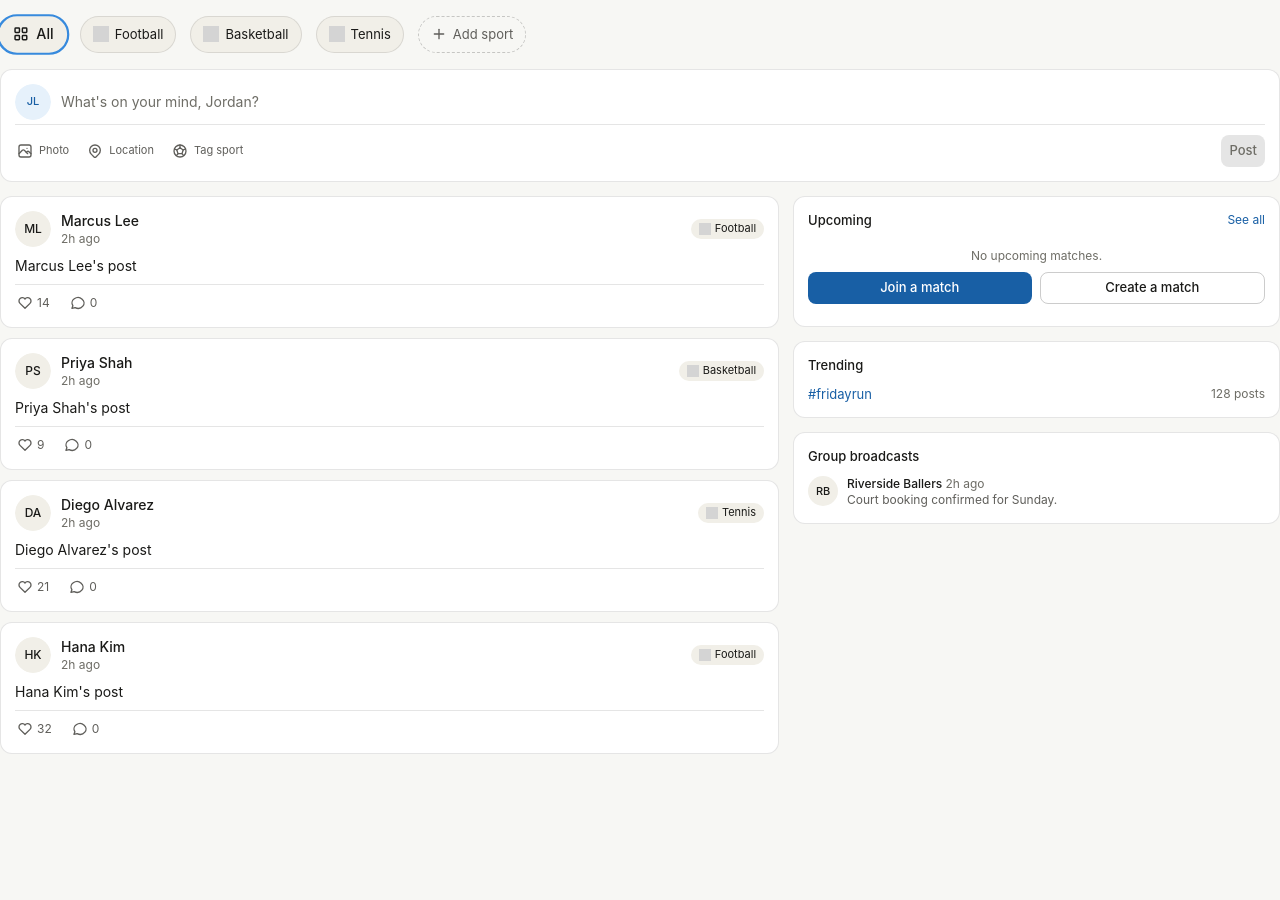
it: HomeFeedPage › empty upcoming matches: "Create a match"/"Join a match" open their own modals
The width and height of the screenshot is (1280, 900).
Check: the text "No upcoming matches." is shown, box [971, 248, 1102, 264]
Click the button "Create a match" at point(1152, 288), box [1040, 272, 1265, 304]
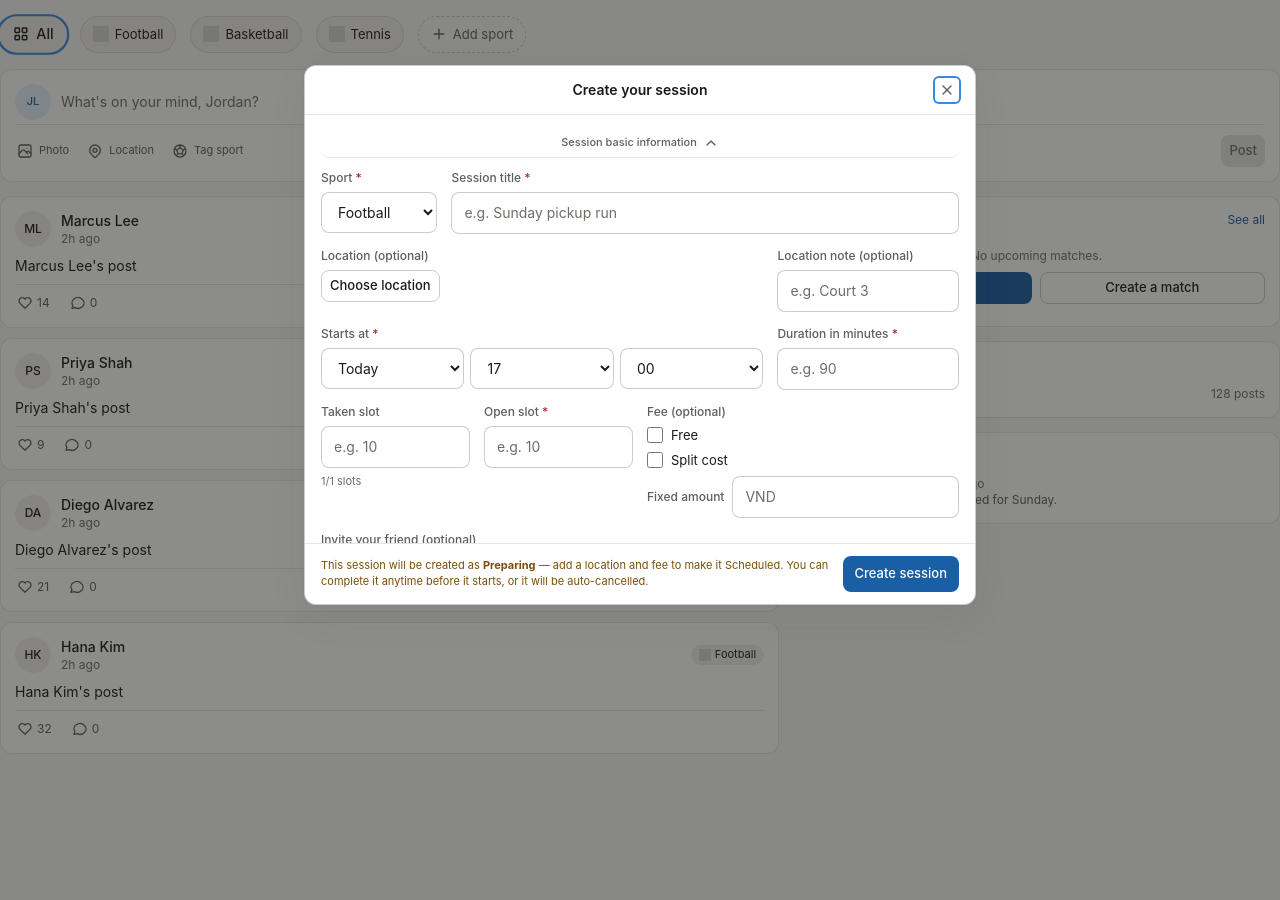
Check: the dialog "Create your session" is shown, box [304, 65, 976, 605]
Click the button named "Close" at point(947, 90), box [935, 78, 959, 102]
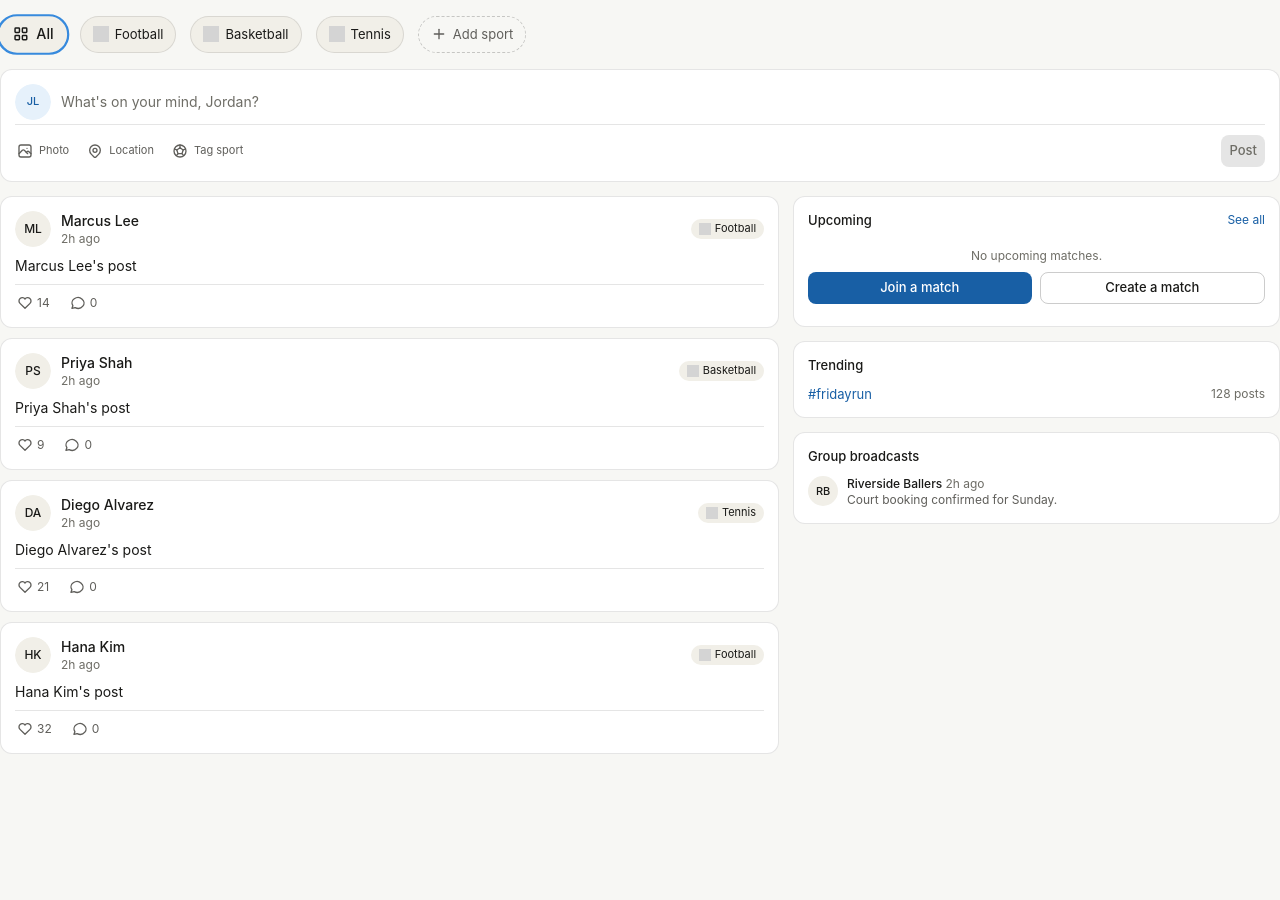
Check: the heading "Create your session" is gone
Click the button "Join a match" at point(920, 288), box [808, 272, 1032, 304]
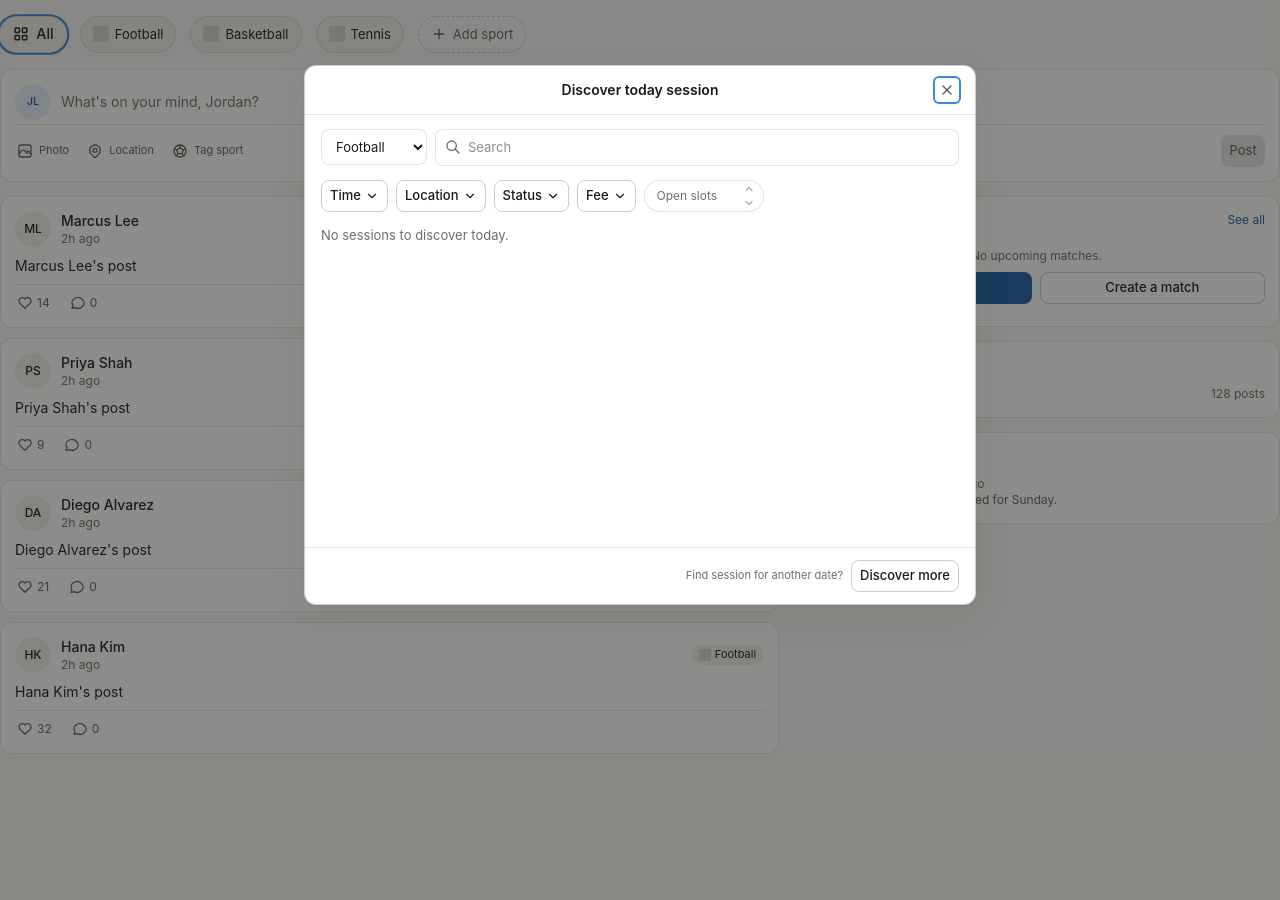
Check: the dialog "Discover today session" is shown, box [304, 65, 976, 605]
